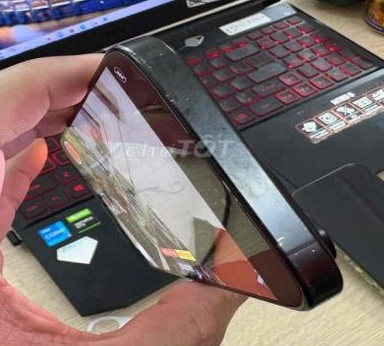scratch: (108, 38, 170, 71), (262, 229, 327, 260), (289, 264, 323, 294), (157, 83, 188, 114)
